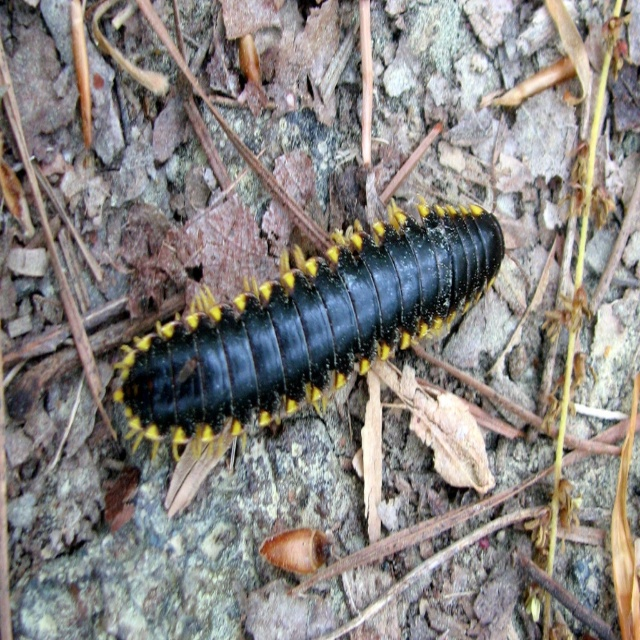Centipede: (108, 197, 507, 462)
